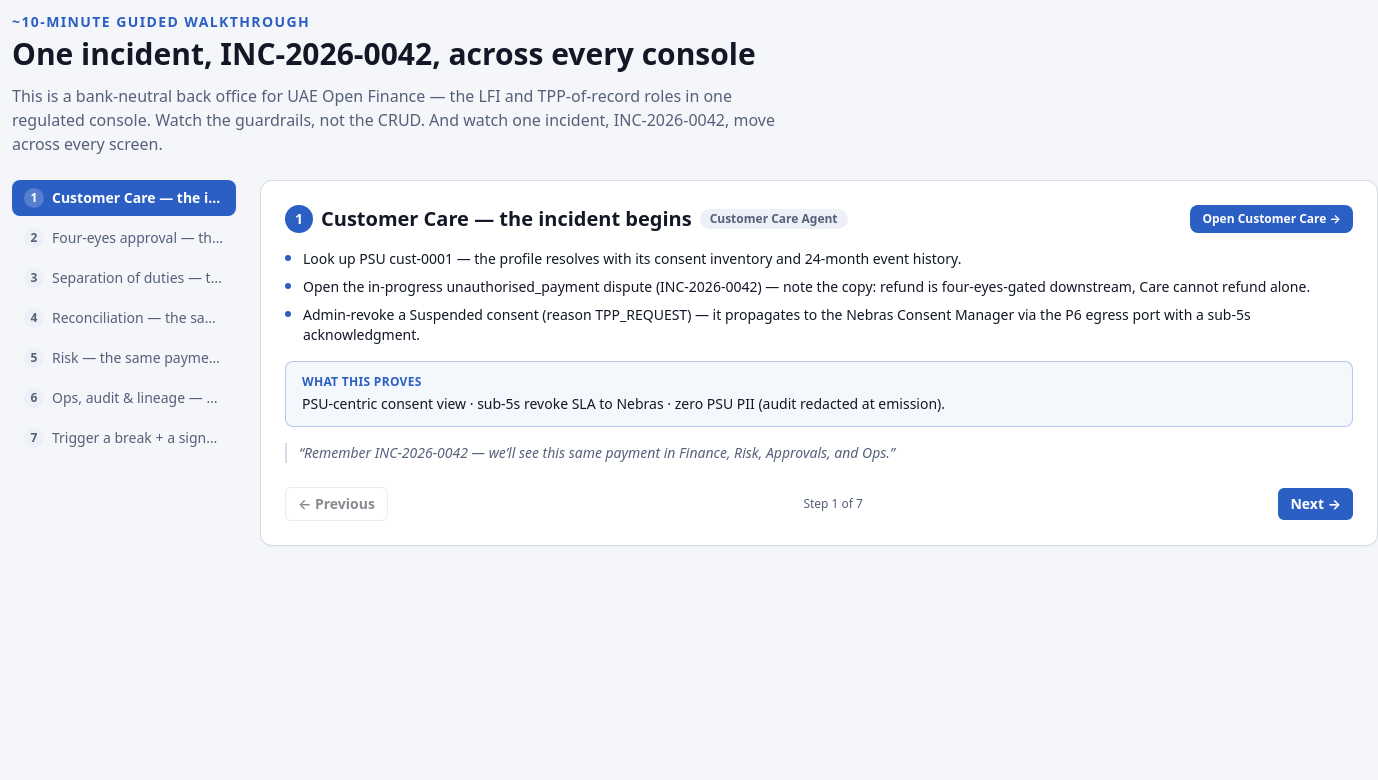
Test: DemoWalkthrough › walks forward through every step via Next and reveals the close at the end
Click the button with test id "step-next" at [1316, 504], box top-left (1278, 488), bottom-right (1353, 520)
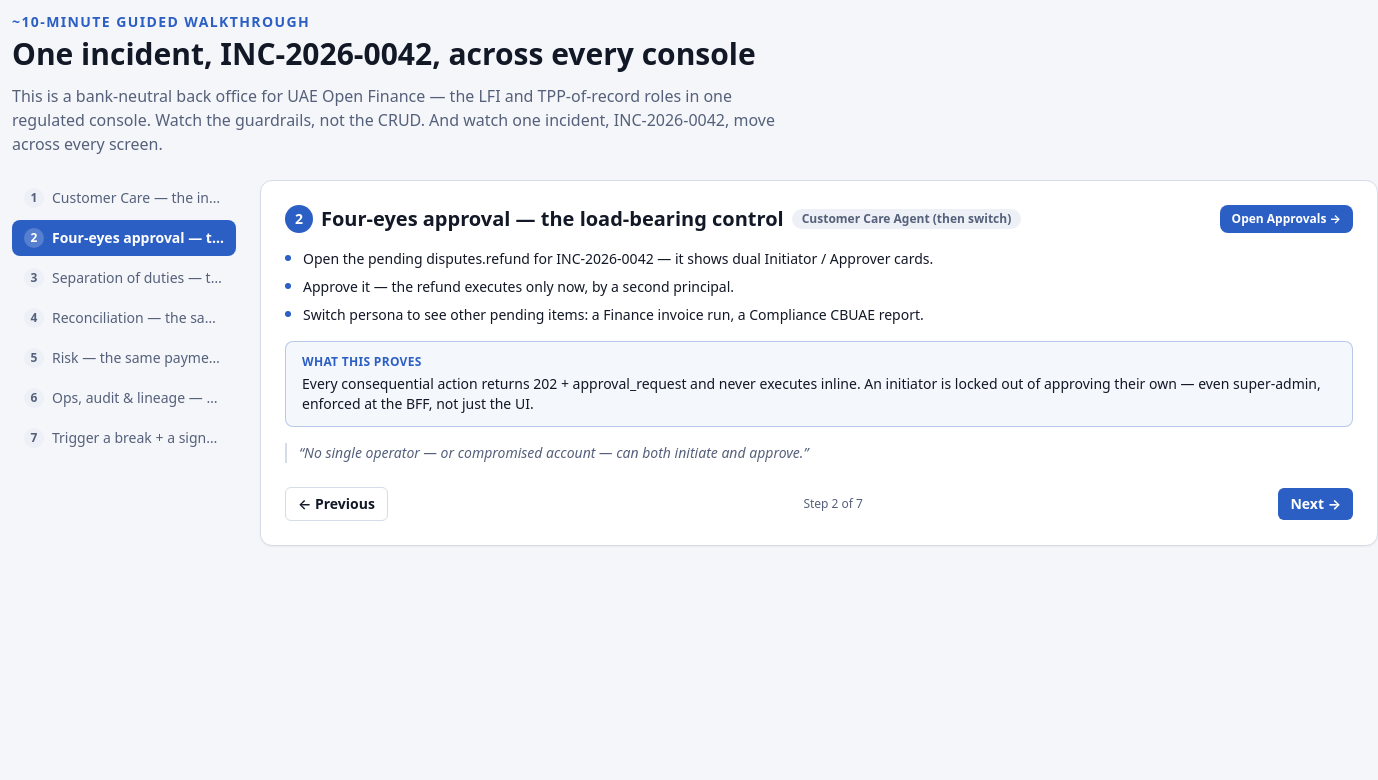
Click the button with test id "step-next" at [1316, 504], box top-left (1278, 488), bottom-right (1353, 520)
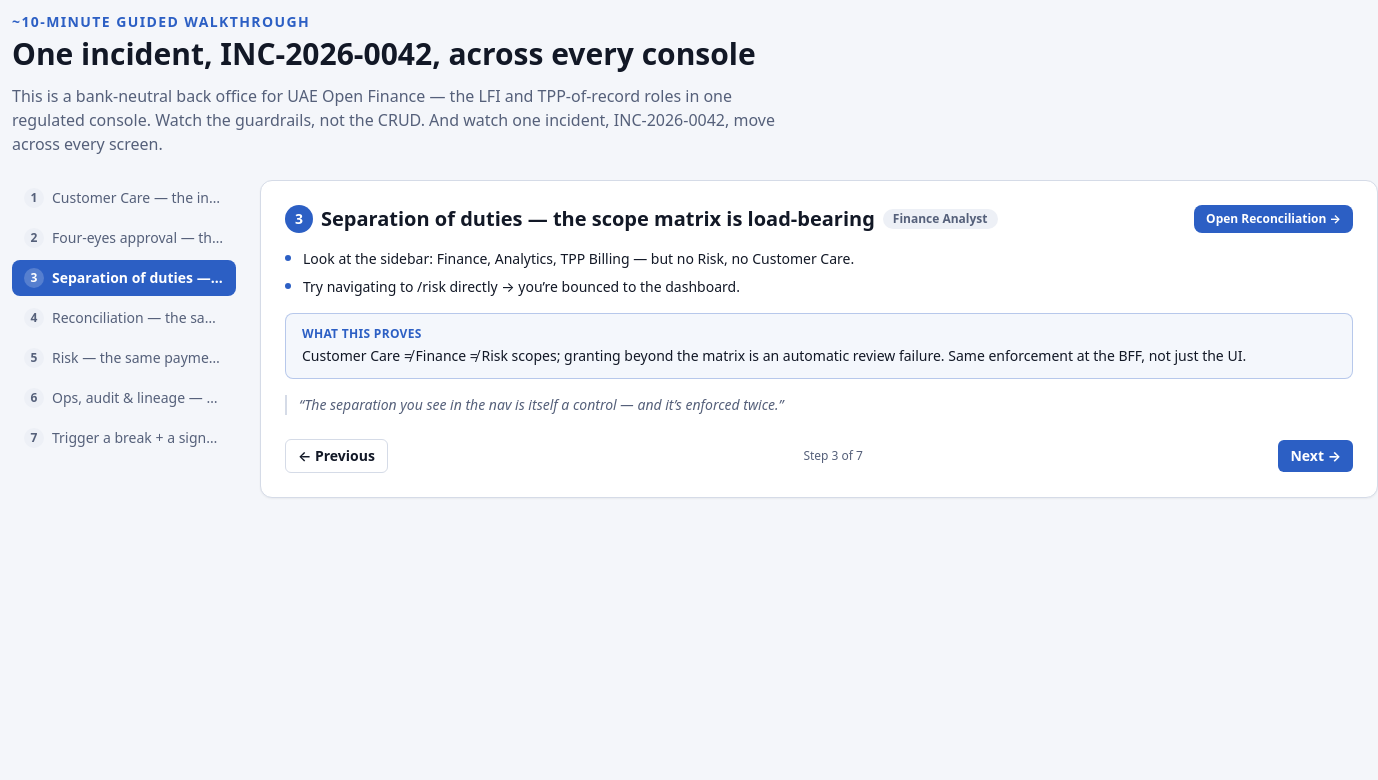
Click the button with test id "step-next" at [1316, 456], box top-left (1278, 440), bottom-right (1353, 472)
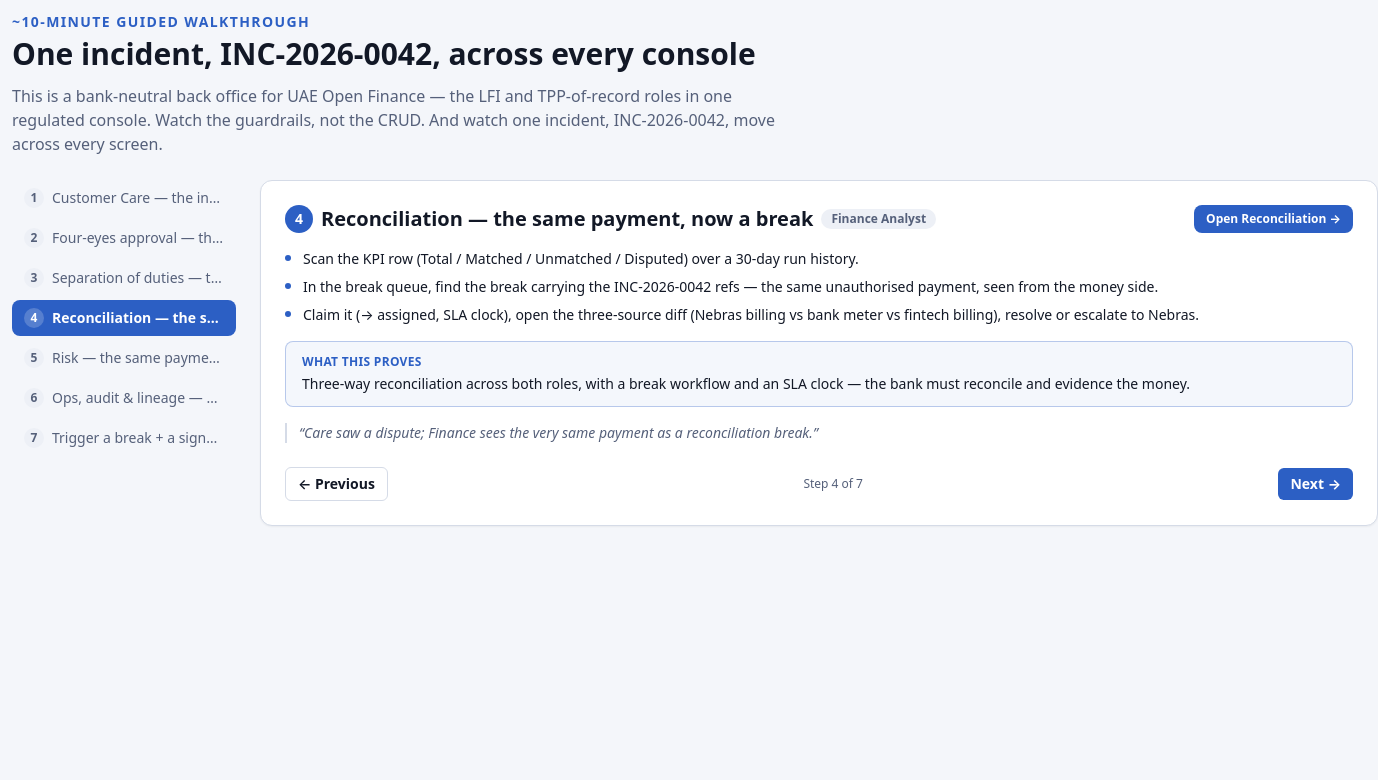
Click the button with test id "step-next" at [1316, 484], box top-left (1278, 468), bottom-right (1353, 500)
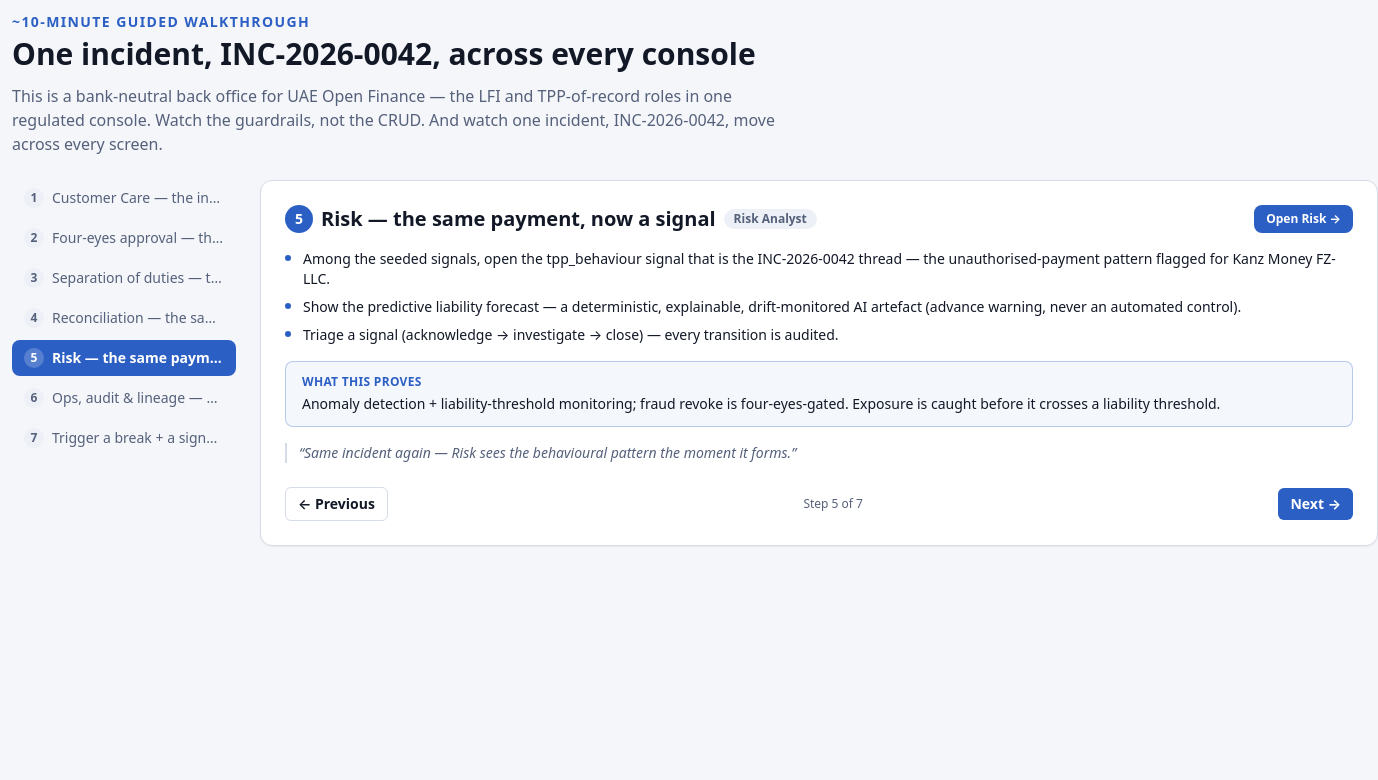
Click the button with test id "step-next" at [1316, 504], box top-left (1278, 488), bottom-right (1353, 520)
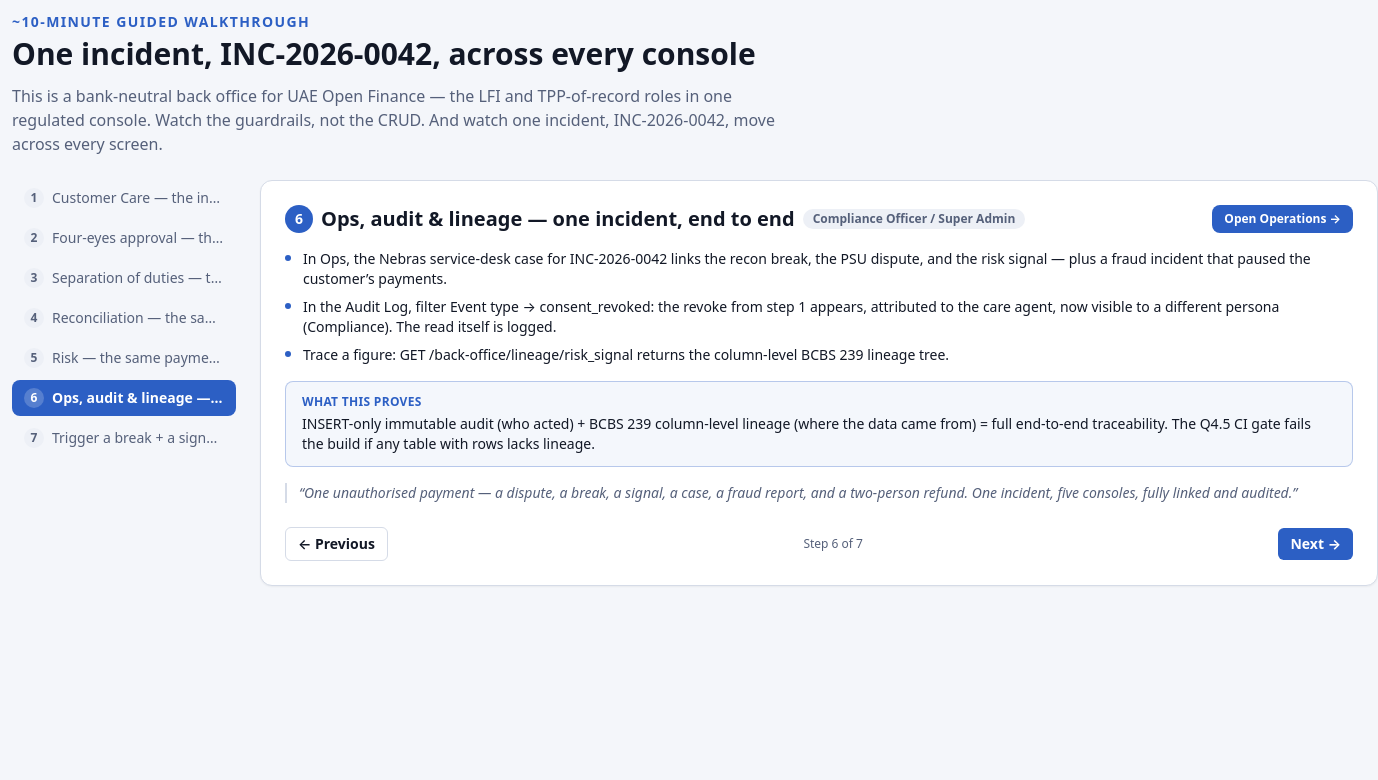
Click the button with test id "step-next" at [1316, 544], box top-left (1278, 528), bottom-right (1353, 560)
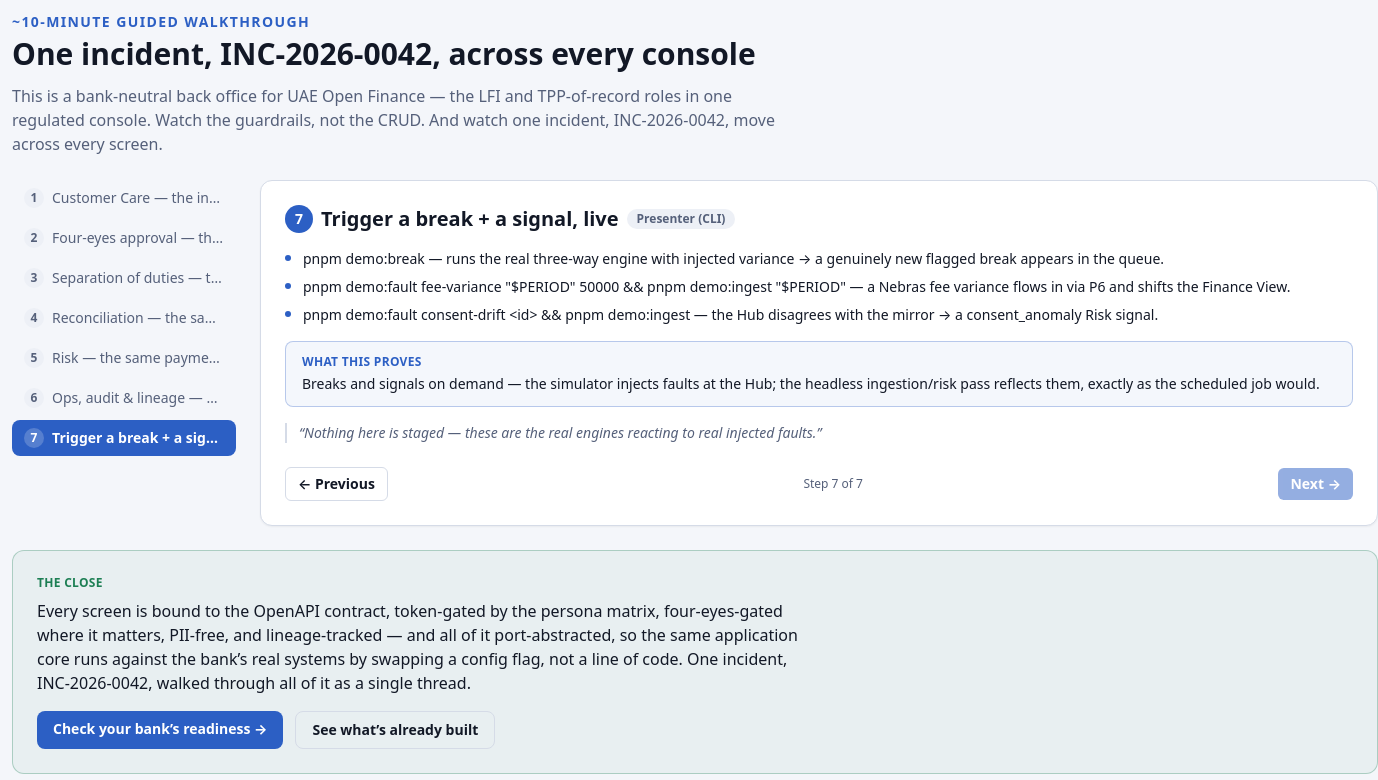
Expected: the element with test id "step-panel-live-triggers" is shown, top-left (260, 180), bottom-right (1377, 526)
Expected: the button with test id "step-next" is disabled, top-left (1278, 468), bottom-right (1353, 500)
Expected: the element with test id "walkthrough-close" is shown, top-left (12, 550), bottom-right (1377, 774)
